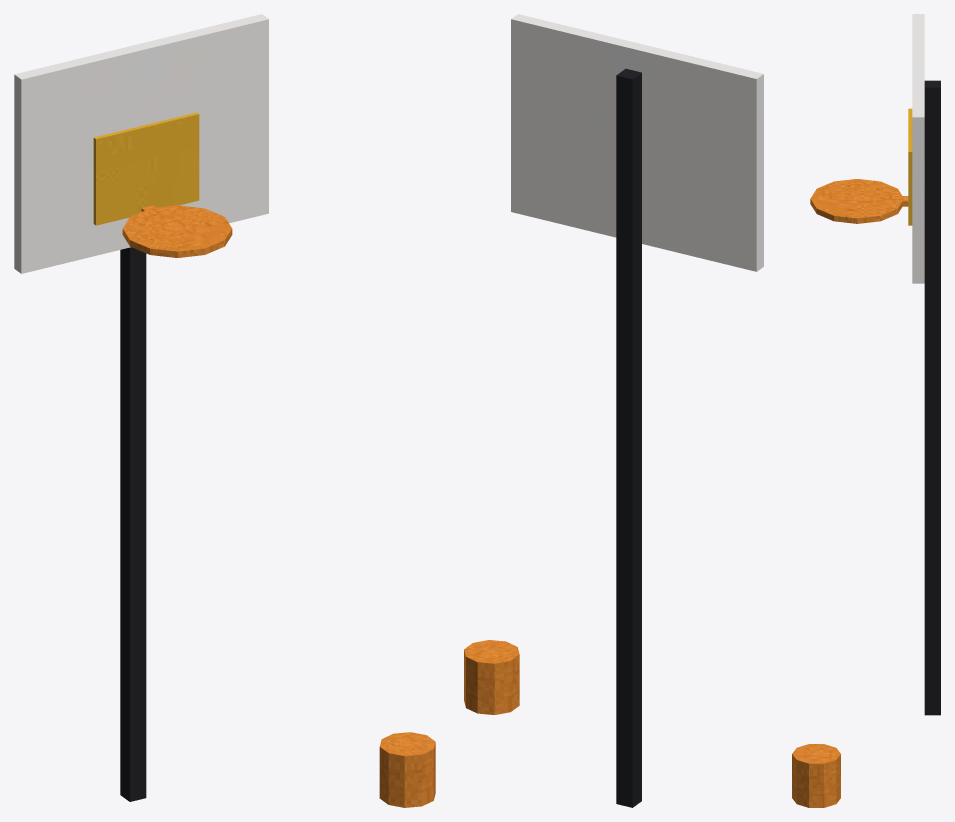
The picture shows the model from 3 angles, left to right: view 1: azimuth 30°, elevation 25°; view 2: azimuth 150°, elevation 25°; view 3: azimuth 270°, elevation 25°; orthographic projection. The views are drawn at different scales.
Visible parts, largest first — view 1: Decor_basketball_hoop; view 2: Decor_basketball_hoop; view 3: Decor_basketball_hoop.
Part boxes in pixels (<box>): Decor_basketball_hoop: <box>14,14,435,807</box>; Decor_basketball_hoop: <box>464,14,763,807</box>; Decor_basketball_hoop: <box>792,14,940,807</box>.
Size of the model in its own units: 1.71 by 3.5 by 0.73.
4 materials, 4 textured.
